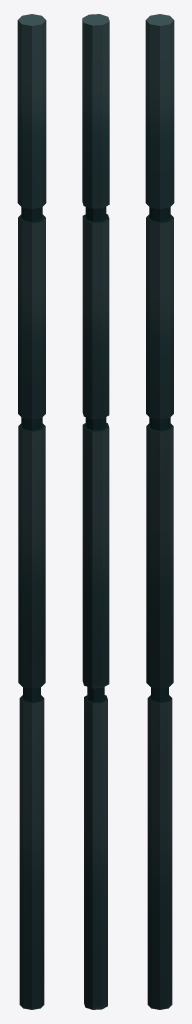
The model's file is Bambu 1.obj.
The picture shows the model from 3 angles, left to right: view 1: azimuth 90°, elevation 25°; view 2: azimuth 210°, elevation 25°; view 3: azimuth 270°, elevation 25°; orthographic projection.
Parts seen in each view (by area): view 1: Bambu 1; view 2: Bambu 1; view 3: Bambu 1.
Part boxes in pixels (x1,y1,x2,y2): Bambu 1: (17,14,46,1009); Bambu 1: (82,14,109,1009); Bambu 1: (145,14,174,1009).
Bounding box in the file's own units: 0.0842 × 3.21 × 0.0842.
